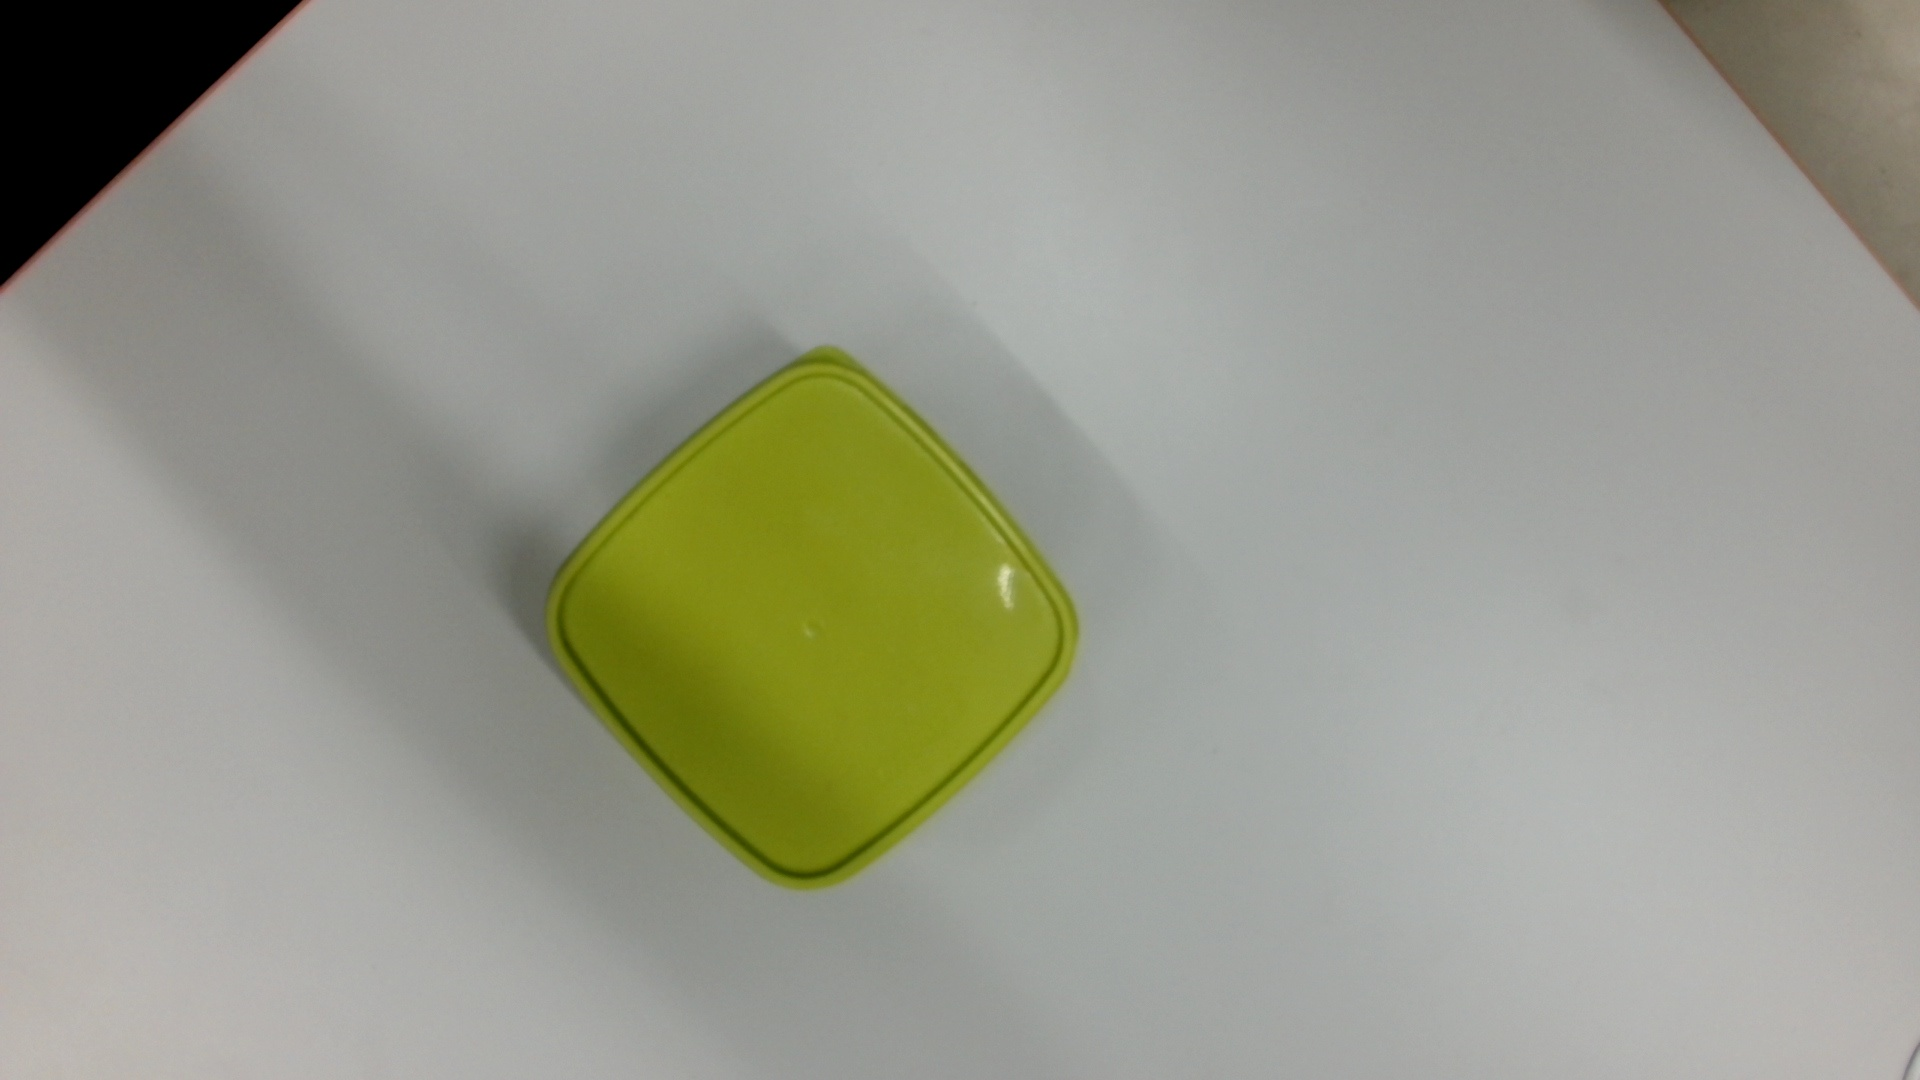Box: (535, 340, 1091, 899)
